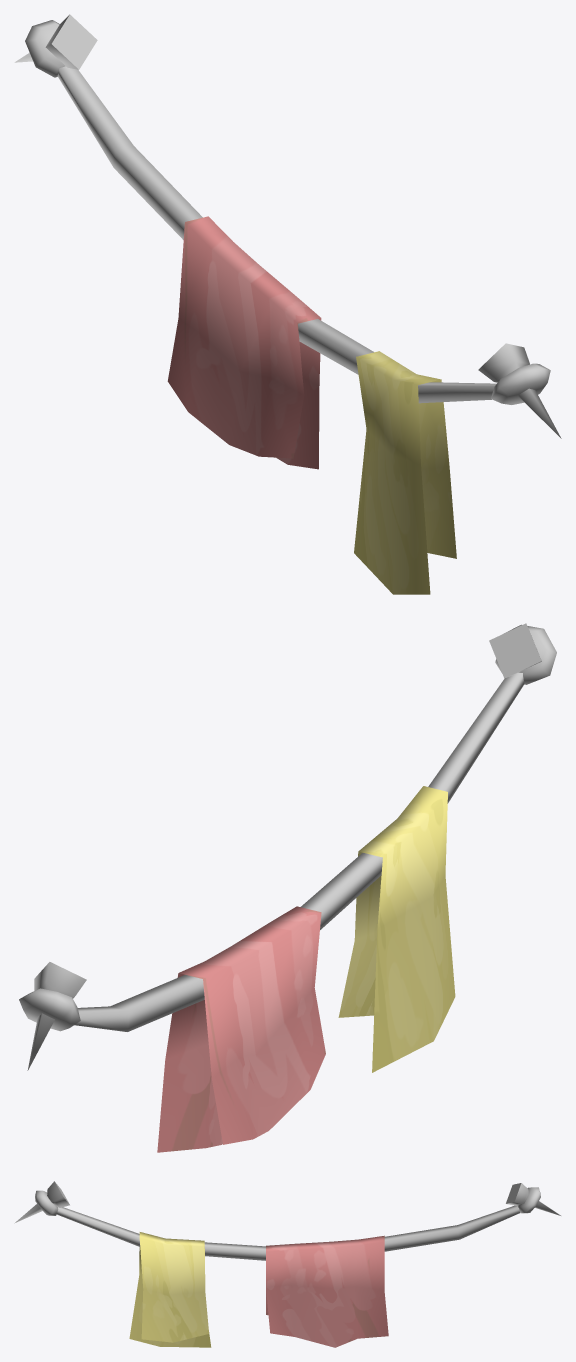
Rendered from SM_PROP_clothesline_02.fbx.
3 views of the same model, one above another, from view 1: azimuth 30°, elevation 25°; view 2: azimuth 150°, elevation 25°; view 3: azimuth 270°, elevation 25° (orthographic). The views are drawn at different scales.
Parts seen in each view (by area): view 1: SM_PROP_clothesline_02; view 2: SM_PROP_clothesline_02; view 3: SM_PROP_clothesline_02.
Part boxes in pixels (x1,y1,x2,y2): SM_PROP_clothesline_02: (14, 14, 561, 594); SM_PROP_clothesline_02: (19, 623, 556, 1152); SM_PROP_clothesline_02: (14, 1181, 560, 1347).
Size of the model in its own units: 20.17 by 98.82 by 290.
